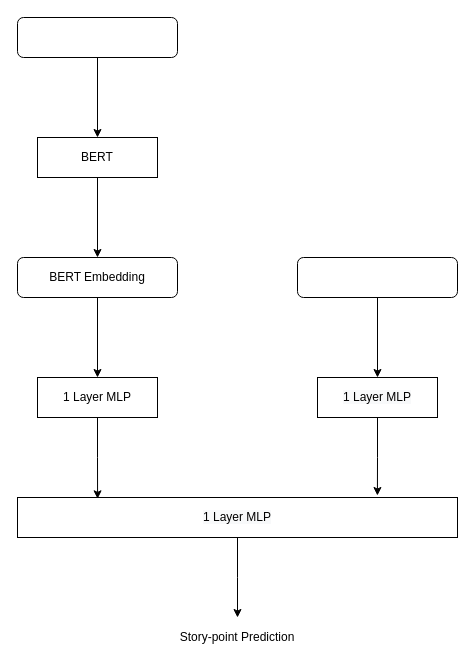
Image size: 475x665. Some labels were removed from this diagram. Here are the shapes that lost their labels. From the top down, the box of each, then its label:
(16, 16, 178, 58): Issue Title + Issue
(296, 256, 458, 298): Team Vector
